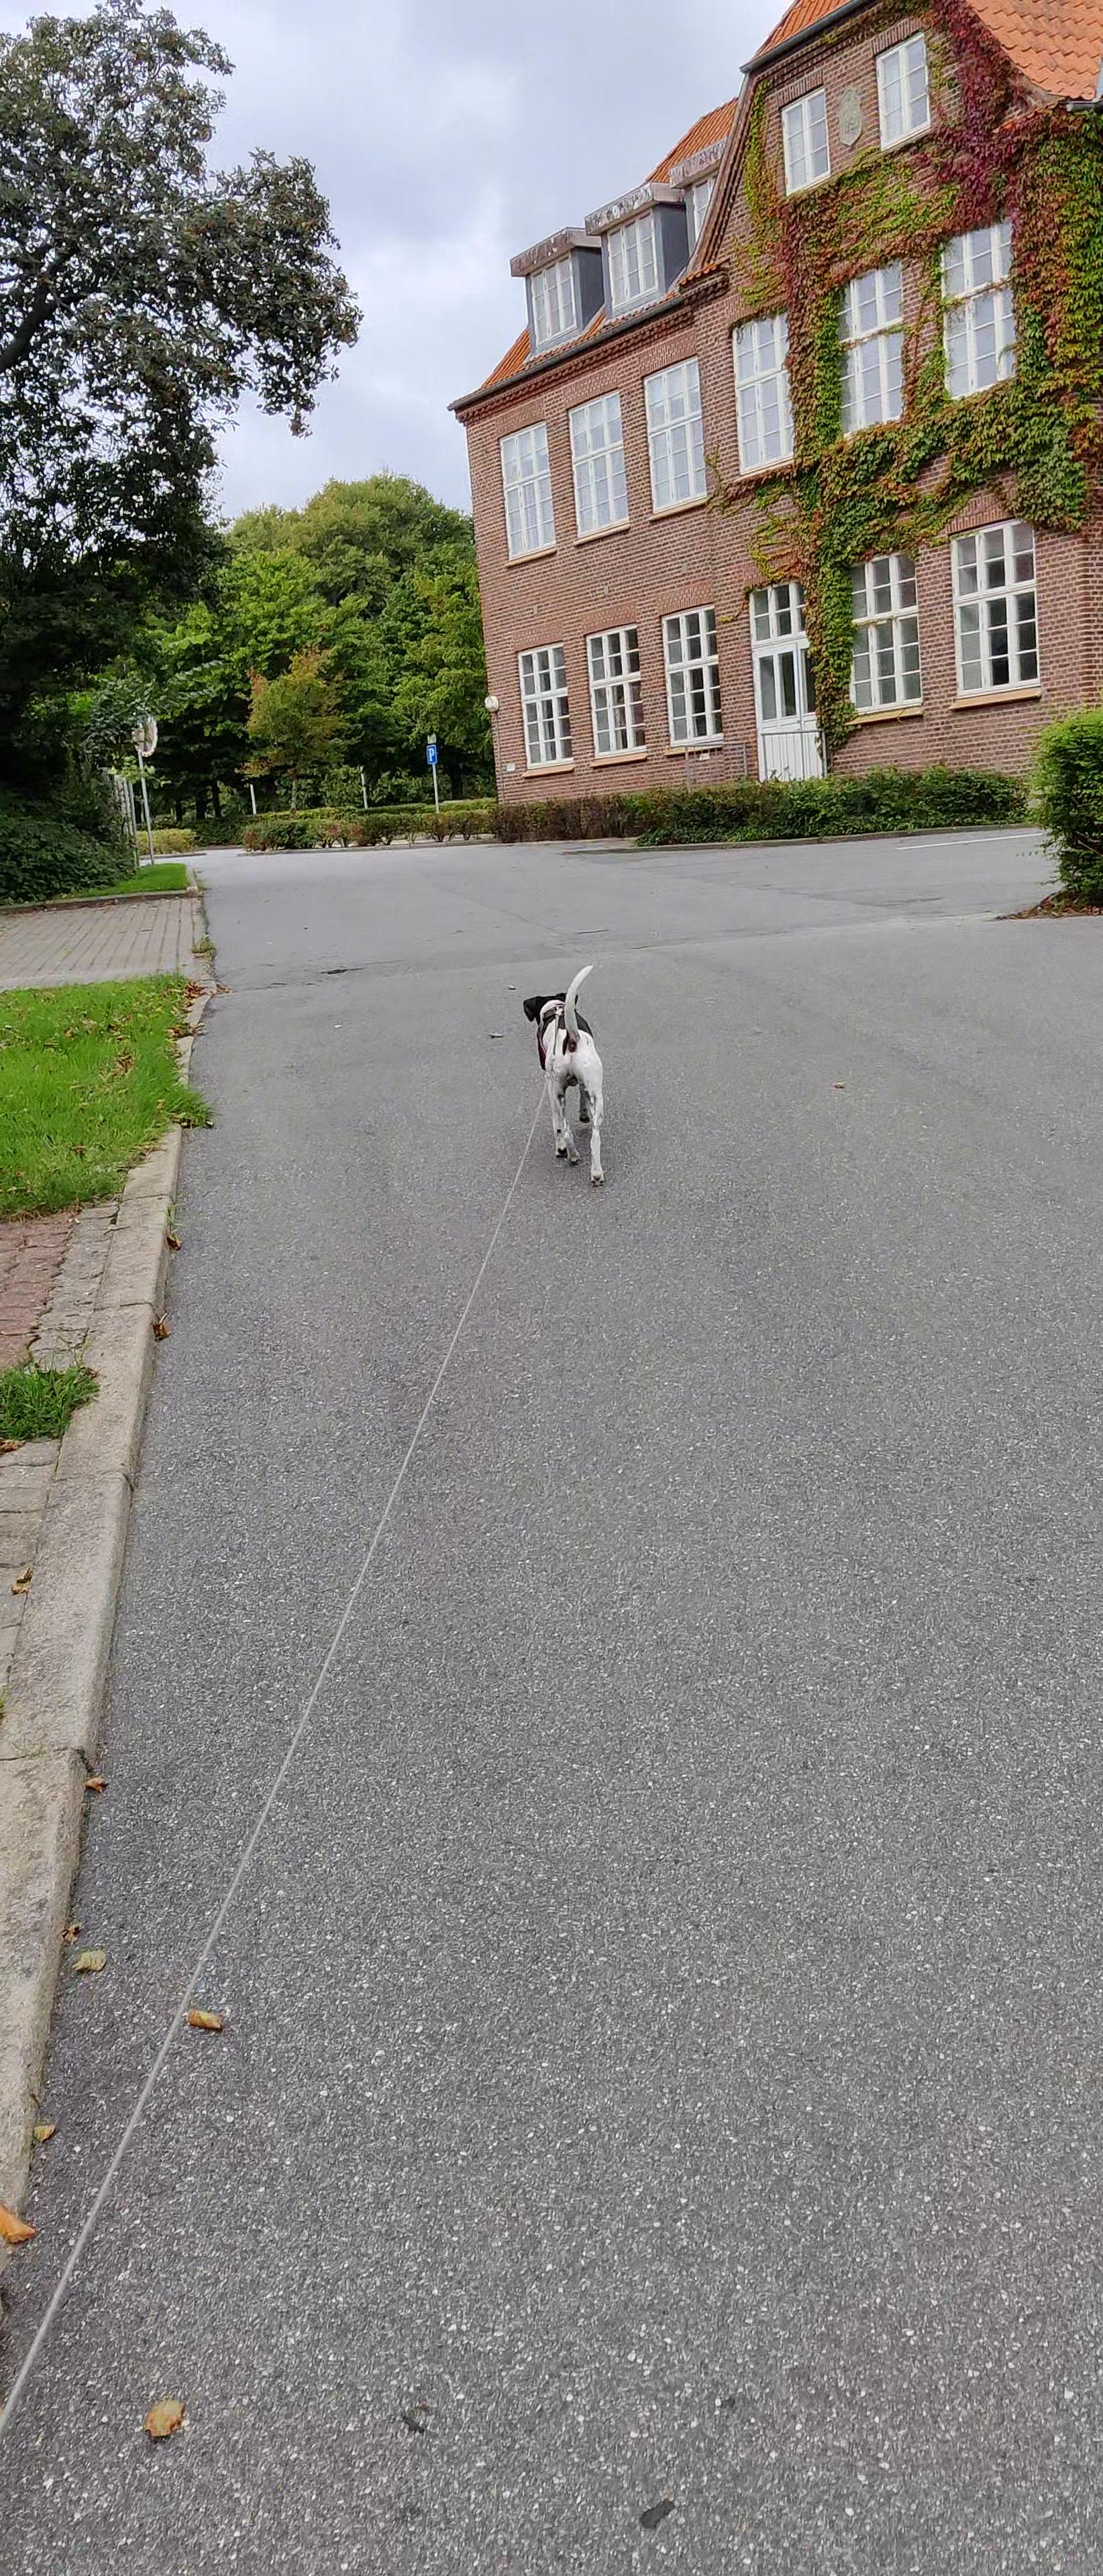Dog: (511, 959, 623, 1186)
